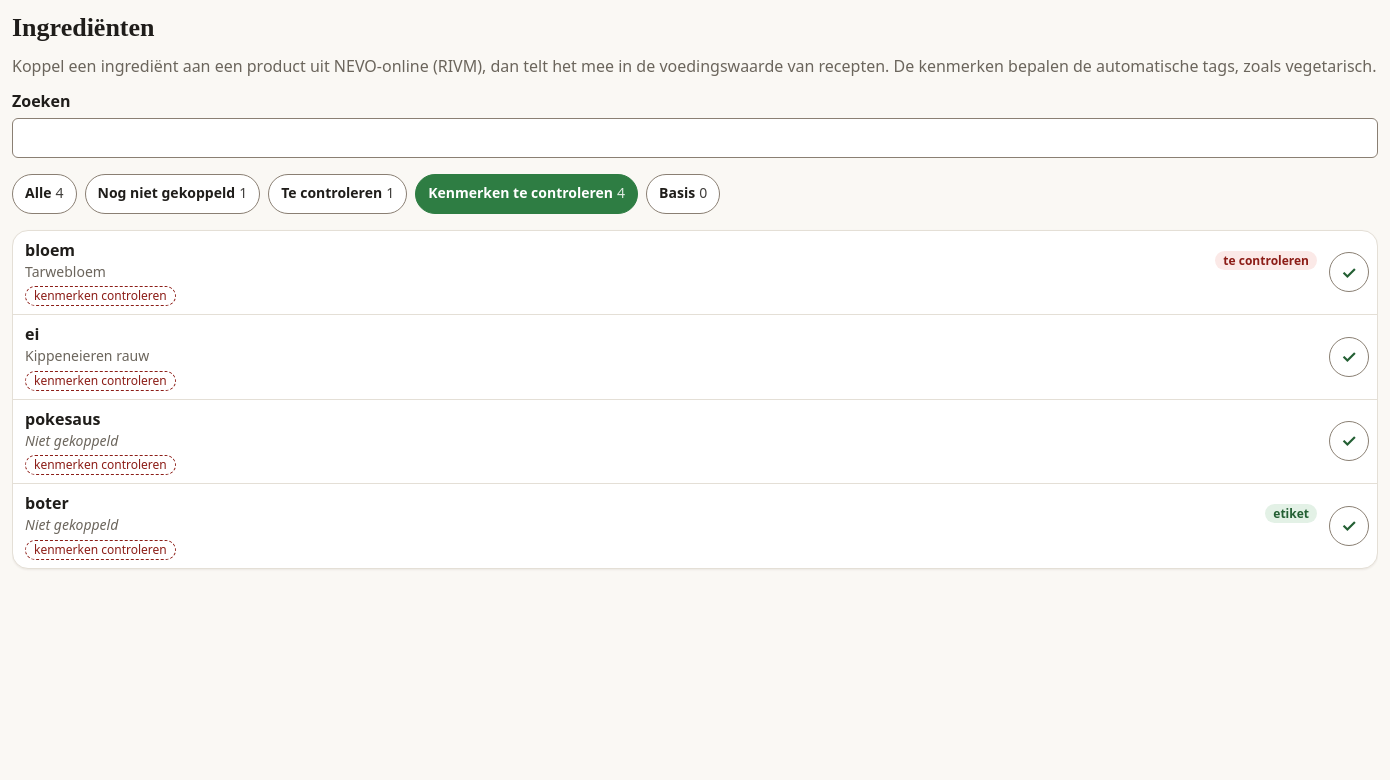
Scenario: IngredientsView › ✓ bij een fout: melding, en de rij blijft staan
Click the button with class "mark-checked" in the row of "Tarwebloem". click: (1349, 272)
box: [1329,252,1369,292]
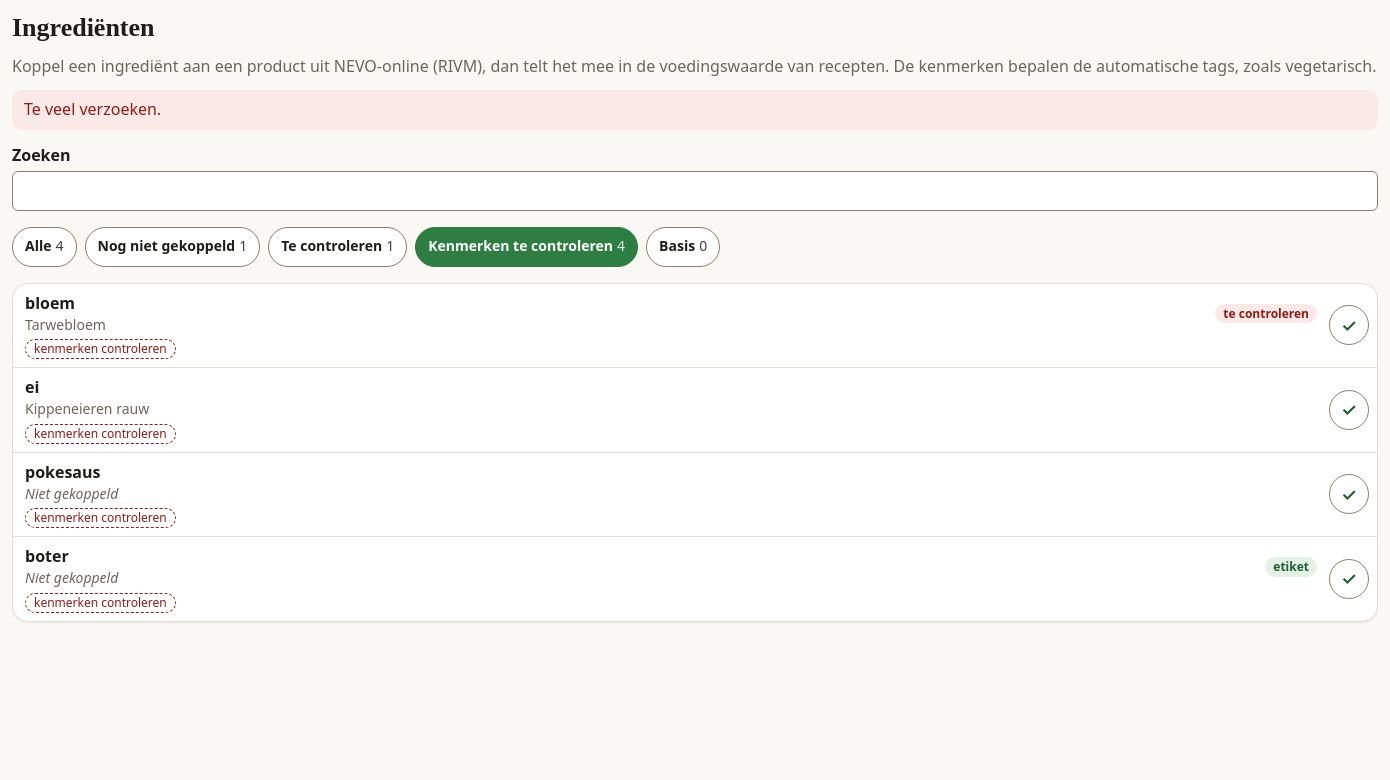
Result: the message "Te veel verzoeken." is shown at [12,90,1378,130]
